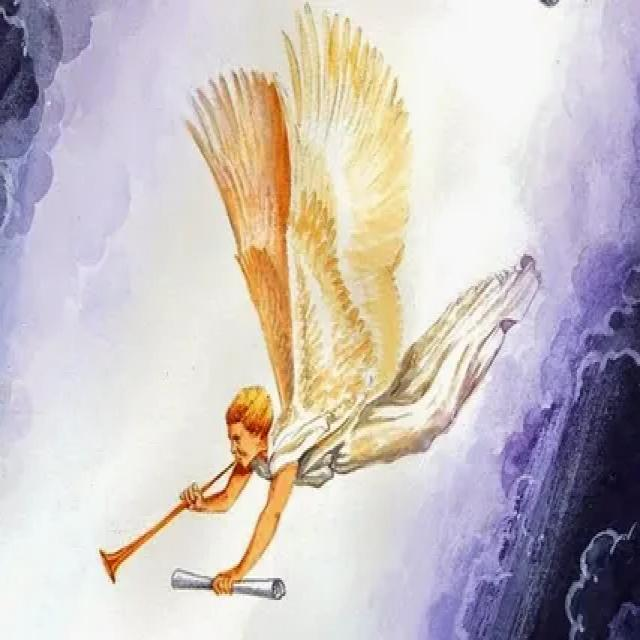angel: (85, 22, 555, 632)
